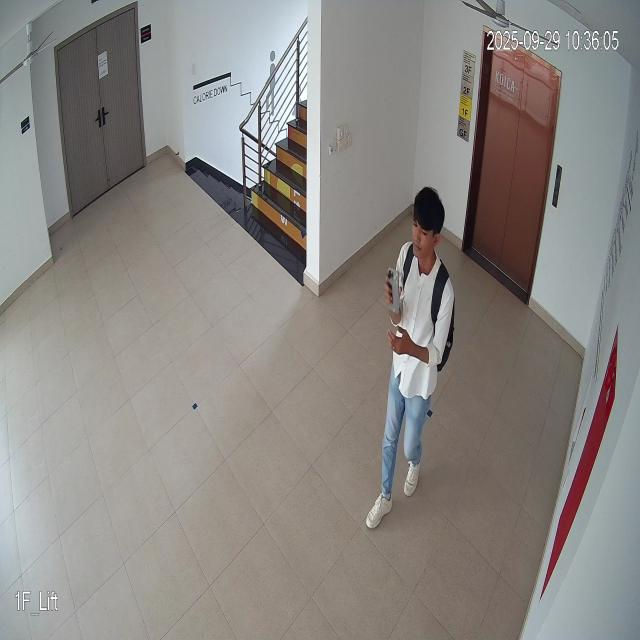face: (412, 182, 448, 272)
